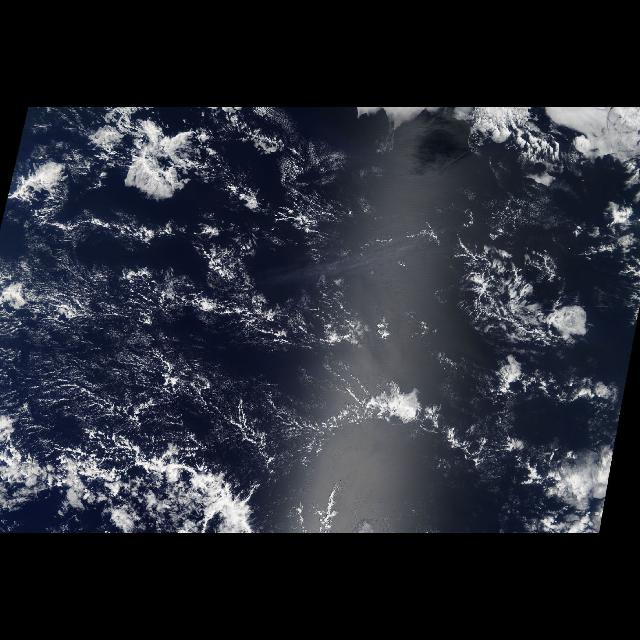Gravel: (4, 267, 192, 429), (452, 240, 602, 358)
Sugar: (0, 242, 302, 476)
